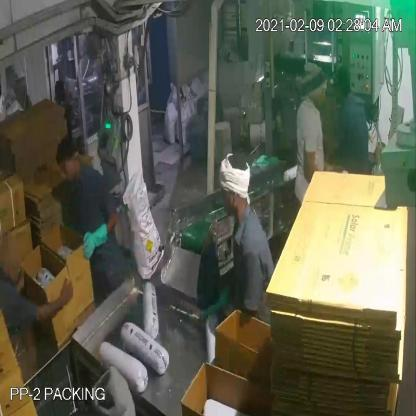glove: (74, 224, 115, 261)
no_glove: (34, 277, 76, 328)
